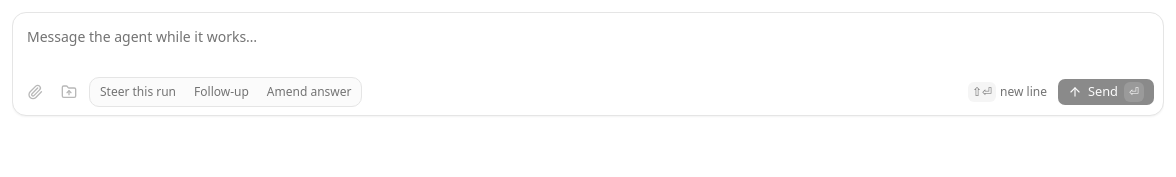
Test: composer lane prompt › shows other refusals inline and keeps the draft
Type "stop there" into the text box labelled "Message" at (588, 45), box [13, 13, 1163, 77]
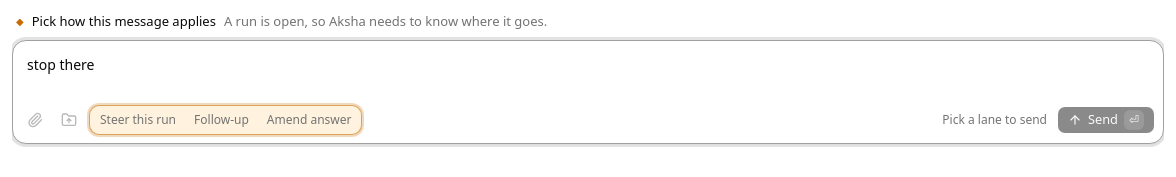
Click the radio button labelled "Steer this run" at (138, 120), box [92, 108, 184, 132]
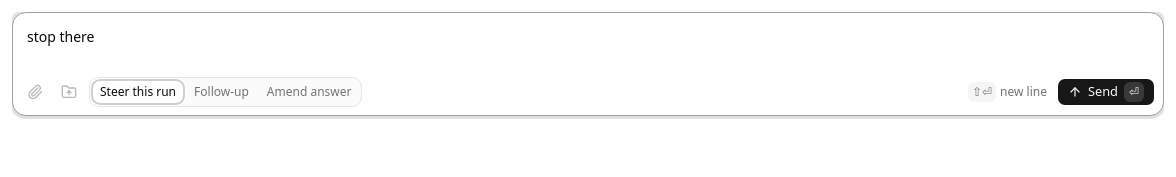
Click the button "Send ⏎" at (1106, 92), box [1057, 78, 1155, 106]
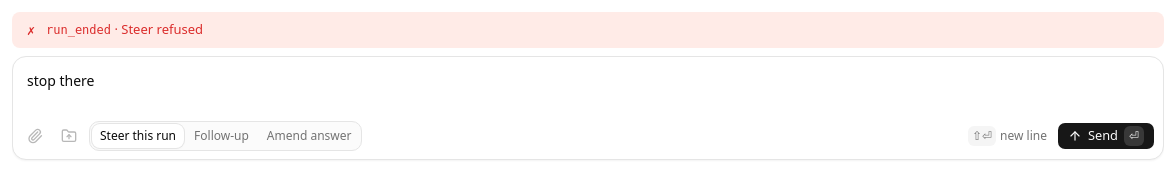
Check: the message shows "run_ended", box [46, 23, 111, 37]
